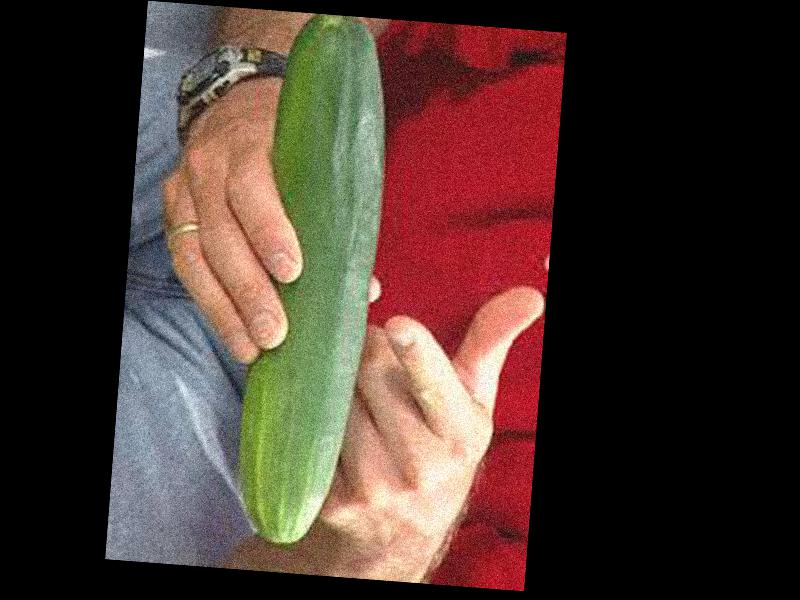Cucumber: (230, 9, 395, 549)
